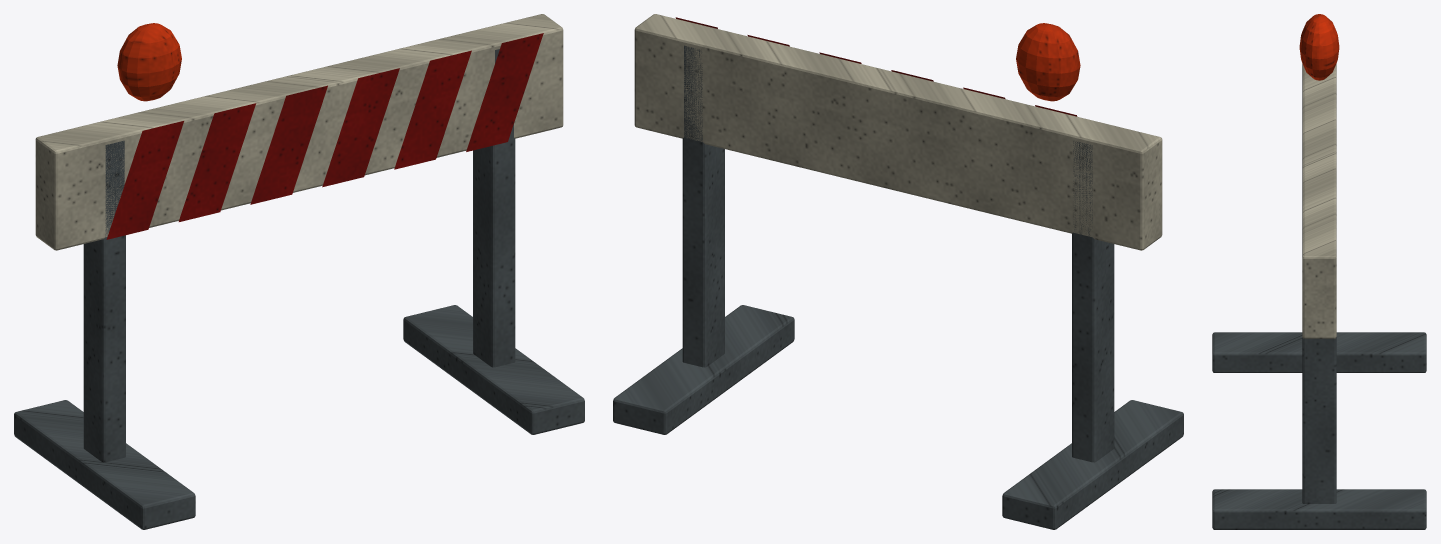
Rendered from PROP-D89DFF822F38_lod0.glb.
3 renders of one model, left to right at view 1: azimuth 30°, elevation 25°; view 2: azimuth 150°, elevation 25°; view 3: azimuth 270°, elevation 25°, orthographic. The views are drawn at different scales.
Visible parts, largest first — view 1: barrier_board, painted_diagonal_stripe, barrier_leg, barrier_foot, barrier_beacon; view 2: barrier_board, barrier_leg, barrier_foot, barrier_beacon; view 3: barrier_foot, barrier_board, barrier_leg, barrier_beacon.
Part boxes in pixels (box(x1,y1,x2,y2)): barrier_board: box(35, 14, 563, 250); painted_diagonal_stripe: box(106, 33, 543, 239); barrier_leg: box(83, 49, 515, 462); barrier_foot: box(14, 305, 584, 529); barrier_beacon: box(117, 23, 181, 101); barrier_board: box(634, 14, 1162, 250); barrier_leg: box(682, 45, 1114, 462); barrier_foot: box(613, 305, 1183, 529); barrier_beacon: box(1016, 23, 1080, 101); barrier_foot: box(1212, 332, 1426, 529); barrier_board: box(1302, 64, 1336, 338); barrier_leg: box(1302, 337, 1336, 503); barrier_beacon: box(1299, 14, 1339, 80).
Size of the model in its own units: 1.7 by 1.41 by 0.75.
Materials: 4 (4 with a texture image).
